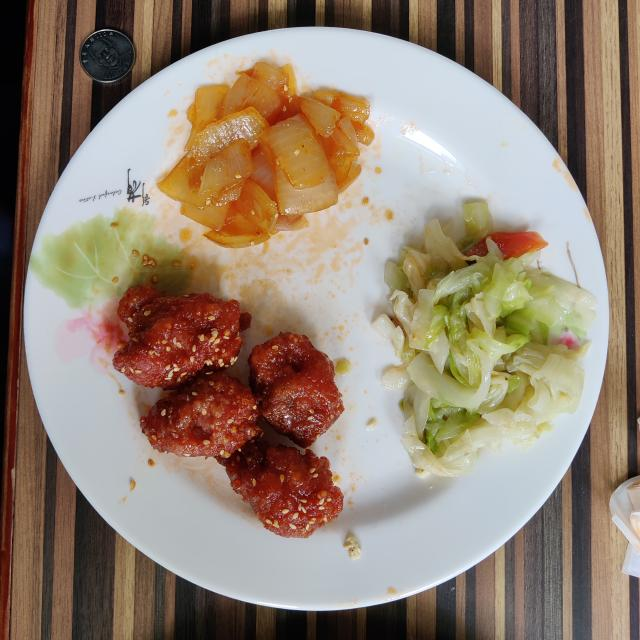cabbage: (372, 201, 596, 476)
coin: (80, 29, 135, 82)
